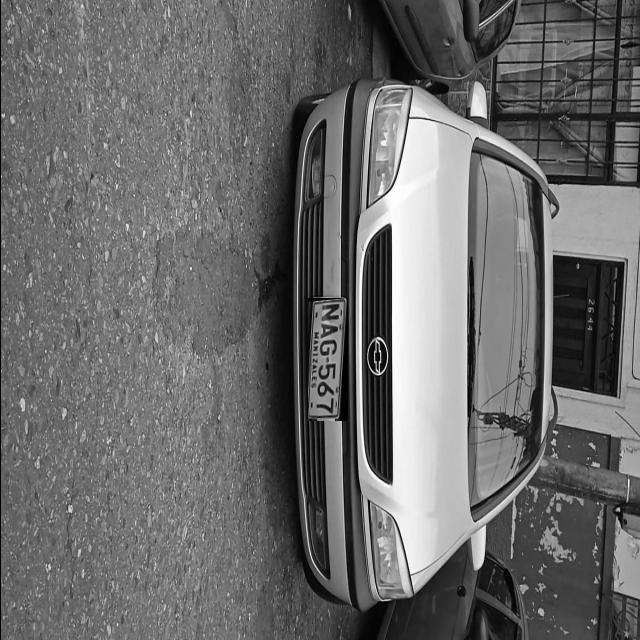plate: (306, 298, 346, 421)
